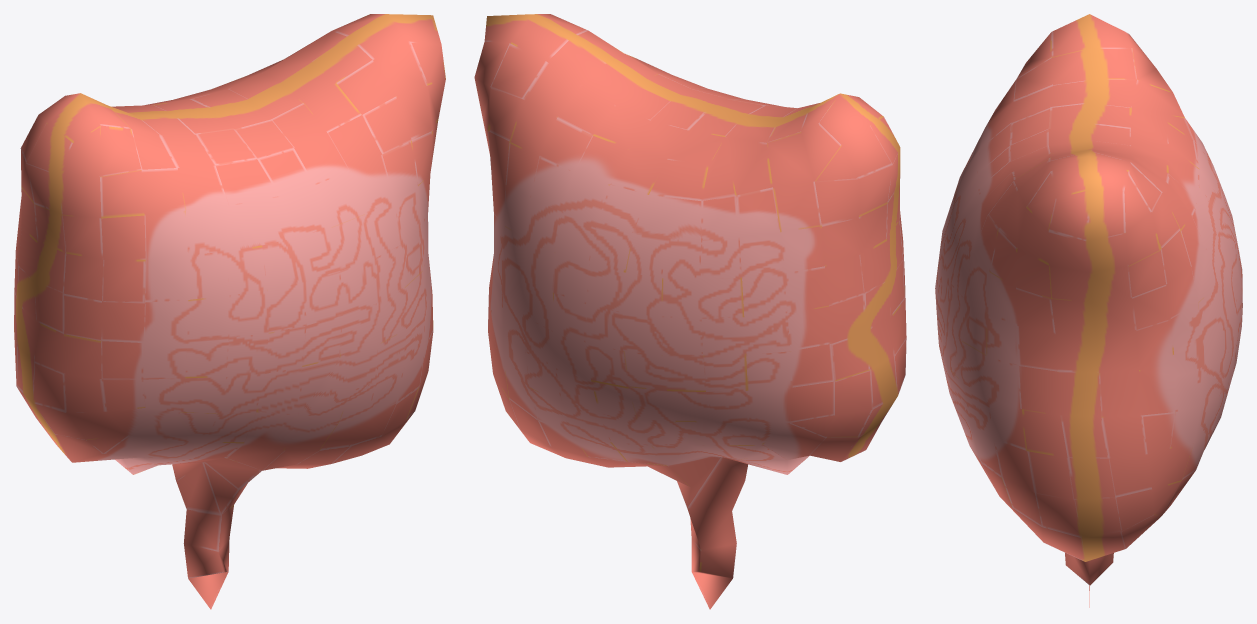
Rendered from guts_low_glb.gltf.
The picture shows the model from 3 angles, left to right: view 1: azimuth 30°, elevation 25°; view 2: azimuth 150°, elevation 25°; view 3: azimuth 270°, elevation 25°; orthographic projection. The views are drawn at different scales.
Visible parts, largest first — view 1: кишки; view 2: кишки; view 3: кишки.
Part boxes in pixels (x1,y1,x2,y2): кишки: (14,14,445,609); кишки: (474,14,906,609); кишки: (935,14,1242,607).
Bounding box in the file's own units: 6.21 × 7.95 × 4.12.
Materials: 1 (1 with a texture image).
